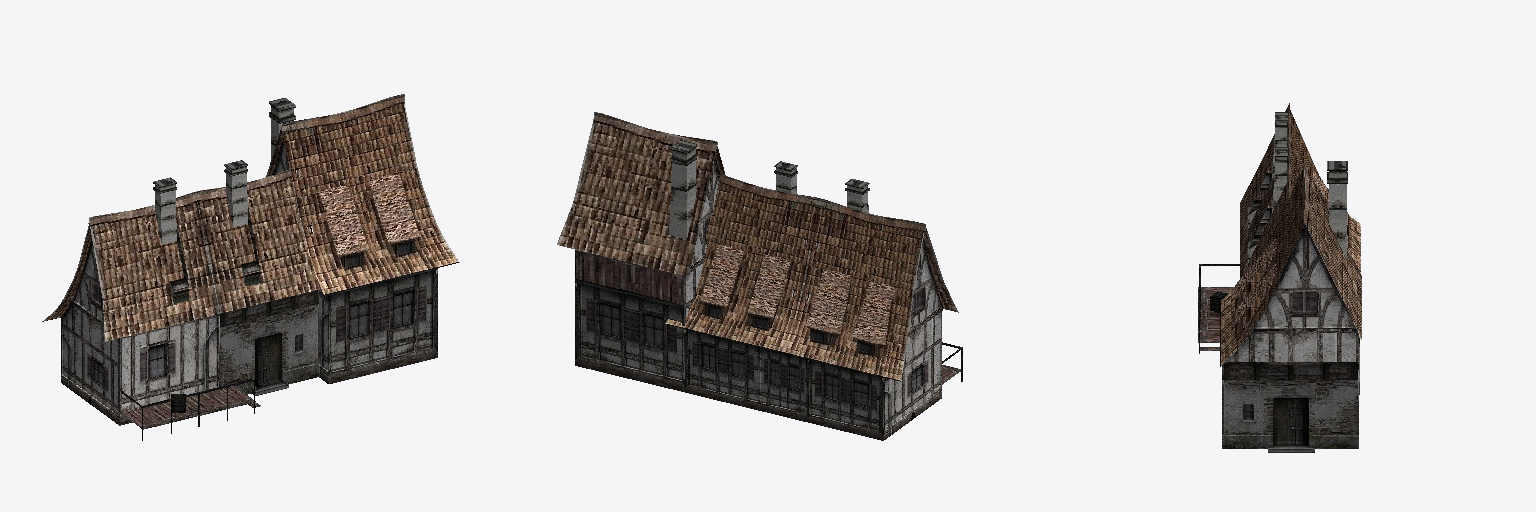
The picture shows the model from 3 angles: view 1: azimuth 30°, elevation 25°; view 2: azimuth 150°, elevation 25°; view 3: azimuth 270°, elevation 25°; orthographic projection.
Parts seen in each view (by area): view 1: Mesh42 Component_2_3 Group4 Group1 Model, Mesh22 Component_12_1 Group2 Group1 Model, Mesh23 Component_12_2 Group2 Group1 Model, Mesh54 Component_3_5 Group4 Group1 Model, Mesh28 Component_28_1 Group2 Group1 Model, Mesh30 Component_10_3 Group2 Group1 Model, Mesh21 Component_10_2 Group2 Group1 Model, Mesh9 Component_11_1 Group2 Group1 Model, Mesh47 Component_21_5 Component_20_5 Group4 Group1 Model, Mesh49 Component_21_6 Component_20_6 Group4 Group1 Model, Mesh39 Component_29_3 Group2 Group1 Model, Mesh37 Component_29_2 Group2 Group1 Model (+6 smaller); view 2: Mesh45 Component_12_3 Group4 Group1 Model, Mesh19 Component_2_2 Group2 Group1 Model, Mesh12 Component_2_1 Group2 Group1 Model, Mesh41 Component_3_4 Group4 Group1 Model, Mesh20 Component_3_2 Group2 Group1 Model, Mesh13 Component_3_1 Group2 Group1 Model, Mesh21 Component_10_2 Group2 Group1 Model, Mesh55 Component_29_4 Group4 Group1 Model, Mesh29 Component_3_3 Group2 Group1 Model, Mesh9 Component_11_1 Group2 Group1 Model, Mesh52 Component_24_6 Group4 Group1 Model, Mesh14 Component_21_2 Component_20_2 Group2 Group1 Model (+5 smaller); view 3: Mesh53 Component_28_2 Group4 Group1 Model, Mesh46 Component_11_4 Group4 Group1 Model, Mesh42 Component_2_3 Group4 Group1 Model, Mesh45 Component_12_3 Group4 Group1 Model, Mesh22 Component_12_1 Group2 Group1 Model, Mesh19 Component_2_2 Group2 Group1 Model, Mesh23 Component_12_2 Group2 Group1 Model, Mesh27 Component_24_4 Group2 Group1 Model, Mesh52 Component_24_6 Group4 Group1 Model, Mesh7 Component_24_2 Group2 Group1 Model, Mesh51 Component_24_5 Group4 Group1 Model, Mesh39 Component_29_3 Group2 Group1 Model (+2 smaller).
Boxes of the visible parts, x1=… form: Mesh42 Component_2_3 Group4 Group1 Model: x1=282, y1=94, x2=459, y2=295; Mesh22 Component_12_1 Group2 Group1 Model: x1=89, y1=192, x2=219, y2=341; Mesh23 Component_12_2 Group2 Group1 Model: x1=196, y1=172, x2=319, y2=313; Mesh54 Component_3_5 Group4 Group1 Model: x1=329, y1=268, x2=437, y2=383; Mesh28 Component_28_1 Group2 Group1 Model: x1=219, y1=289, x2=318, y2=395; Mesh30 Component_10_3 Group2 Group1 Model: x1=120, y1=309, x2=218, y2=425; Mesh21 Component_10_2 Group2 Group1 Model: x1=61, y1=322, x2=119, y2=425; Mesh9 Component_11_1 Group2 Group1 Model: x1=61, y1=238, x2=119, y2=364; Mesh47 Component_21_5 Component_20_5 Group4 Group1 Model: x1=371, y1=174, x2=419, y2=243; Mesh49 Component_21_6 Component_20_6 Group4 Group1 Model: x1=320, y1=186, x2=368, y2=256; Mesh39 Component_29_3 Group2 Group1 Model: x1=186, y1=386, x2=255, y2=415; Mesh37 Component_29_2 Group2 Group1 Model: x1=121, y1=401, x2=199, y2=429; Mesh45 Component_12_3 Group4 Group1 Model: x1=557, y1=112, x2=717, y2=276; Mesh19 Component_2_2 Group2 Group1 Model: x1=783, y1=198, x2=925, y2=381; Mesh12 Component_2_1 Group2 Group1 Model: x1=665, y1=174, x2=818, y2=352; Mesh41 Component_3_4 Group4 Group1 Model: x1=575, y1=279, x2=683, y2=391; Mesh20 Component_3_2 Group2 Group1 Model: x1=809, y1=359, x2=883, y2=440; Mesh13 Component_3_1 Group2 Group1 Model: x1=684, y1=329, x2=758, y2=410; Mesh21 Component_10_2 Group2 Group1 Model: x1=884, y1=338, x2=941, y2=439; Mesh55 Component_29_4 Group4 Group1 Model: x1=575, y1=250, x2=684, y2=304; Mesh29 Component_3_3 Group2 Group1 Model: x1=759, y1=347, x2=808, y2=422; Mesh9 Component_11_1 Group2 Group1 Model: x1=884, y1=241, x2=942, y2=378; Mesh52 Component_24_6 Group4 Group1 Model: x1=666, y1=144, x2=691, y2=239; Mesh14 Component_21_2 Component_20_2 Group2 Group1 Model: x1=701, y1=244, x2=743, y2=307; Mesh53 Component_28_2 Group4 Group1 Model: x1=1222, y1=362, x2=1358, y2=452; Mesh46 Component_11_4 Group4 Group1 Model: x1=1226, y1=225, x2=1358, y2=361; Mesh42 Component_2_3 Group4 Group1 Model: x1=1220, y1=168, x2=1304, y2=366; Mesh45 Component_12_3 Group4 Group1 Model: x1=1304, y1=163, x2=1361, y2=339; Mesh22 Component_12_1 Group2 Group1 Model: x1=1240, y1=103, x2=1289, y2=257; Mesh19 Component_2_2 Group2 Group1 Model: x1=1289, y1=110, x2=1360, y2=272; Mesh23 Component_12_2 Group2 Group1 Model: x1=1240, y1=155, x2=1289, y2=278; Mesh27 Component_24_4 Group2 Group1 Model: x1=1248, y1=151, x2=1287, y2=262; Mesh52 Component_24_6 Group4 Group1 Model: x1=1338, y1=161, x2=1347, y2=258; Mesh7 Component_24_2 Group2 Group1 Model: x1=1248, y1=116, x2=1287, y2=227; Mesh51 Component_24_5 Group4 Group1 Model: x1=1327, y1=161, x2=1337, y2=240; Mesh39 Component_29_3 Group2 Group1 Model: x1=1198, y1=314, x2=1219, y2=342.
Bounding box in the file's own units: 15.27 × 9.91 × 6.21.
1 materials, 1 textured.